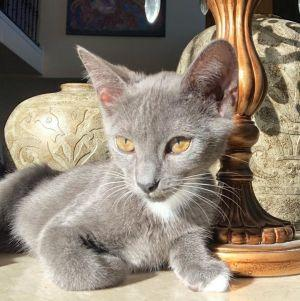rblue: (73, 35, 250, 208)
